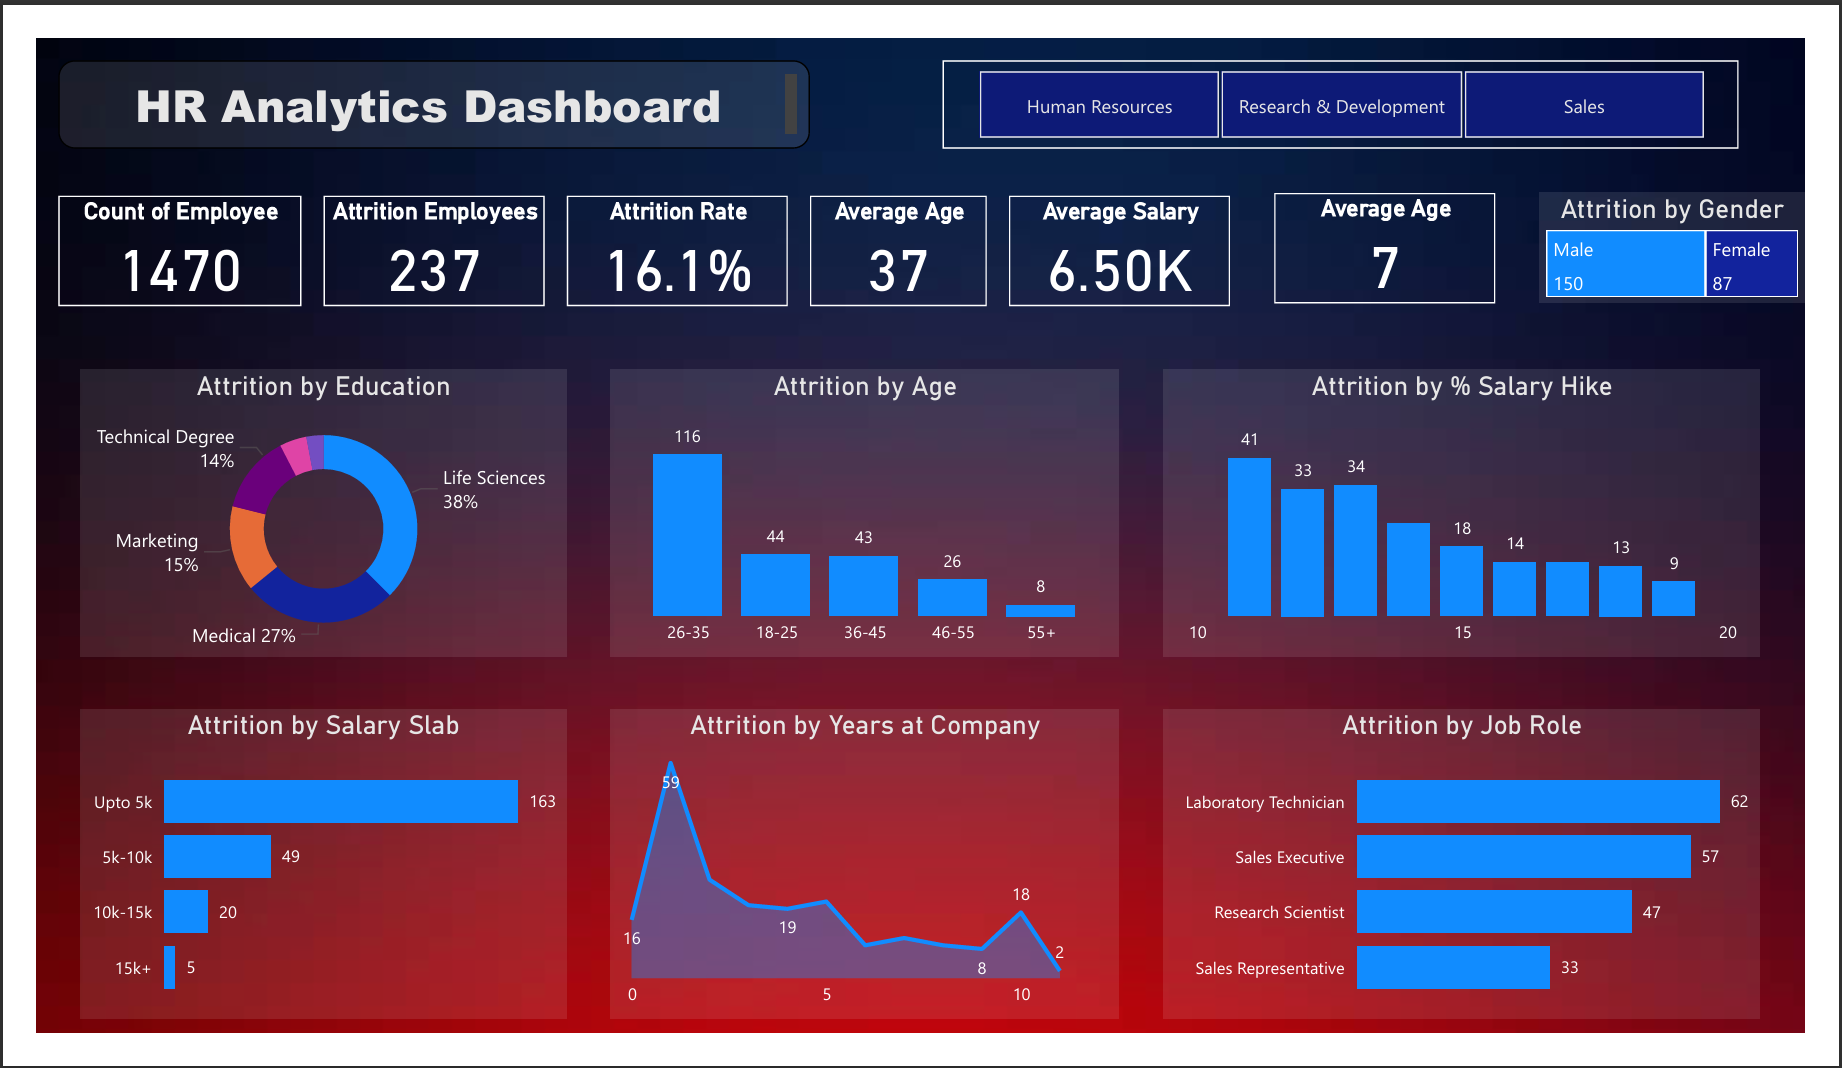

Layout of this report page (visuals, bound fields, positions):
{"tool":"powerbi","page":{"name":"Page 1","canvas":[1280,720],"ordinal":0},"visuals":[{"type":"card","title":"Attrition Employees","fields":{"Values":["Sum(HR_Analytics.Attrition Count)"]},"box":[208,114,160,80],"z":0},{"type":"card","title":"Count of Employee","fields":{"Values":["Count(HR_Analytics.EmpID)"]},"box":[16,114,176,80],"z":1000},{"type":"card","title":"Average Salary","fields":{"Values":["Avg(HR_Analytics.MonthlyIncome)"]},"box":[704,114,160,80],"z":2000},{"type":"card","title":"Attrition Rate","fields":{"Values":["HR_Analytics.Attrition Rate"]},"box":[384,114,160,80],"z":3000},{"type":"card","title":"Average Age","fields":{"Values":["Avg(HR_Analytics.Age)"]},"box":[560,114,128,80],"z":4000},{"type":"donutChart","title":"Attrition by Education","fields":{"Y":["Sum(HR_Analytics.Attrition Count)"],"Category":["HR_Analytics.EducationField"]},"box":[32,240,352,208],"z":5000},{"type":"columnChart","title":"Attrition by Age","fields":{"Category":["HR_Analytics.AgeGroup"],"Y":["Sum(HR_Analytics.Attrition Count)"]},"box":[416,240,368,208],"z":6000},{"type":"clusteredBarChart","title":"Attrition by Salary Slab","fields":{"Category":["HR_Analytics.SalarySlab"],"Y":["Sum(HR_Analytics.Attrition Count)"]},"box":[32,485.6,352,224],"z":8000},{"type":"clusteredBarChart","title":"Attrition by Job Role","fields":{"Y":["Sum(HR_Analytics.Attrition Count)"],"Category":["HR_Analytics.JobRole"]},"box":[816,485.6,432,224],"z":9000},{"type":"areaChart","title":"Attrition by Years at Company","fields":{"Category":["HR_Analytics.YearsAtCompany"],"Y":["Sum(HR_Analytics.Attrition Count)"]},"box":[416,485.6,368,224],"z":10000},{"type":"treemap","title":"Attrition by Gender","fields":{"Group":["HR_Analytics.Gender"],"Values":["Sum(HR_Analytics.Attrition Count)"]},"box":[1088,112,192,80],"z":11000},{"type":"slicer","title":"Department","fields":{"Values":["HR_Analytics.Department"]},"box":[656,16,576,64],"z":12000},{"type":"textbox","box":[16,16,544,64],"z":13000},{"type":"card","title":"Average Age","fields":{"Values":["Avg(HR_Analytics.YearsAtCompany)"]},"box":[896,112,160,80],"z":14000},{"type":"columnChart","title":"Attrition by % Salary Hike","fields":{"Category":["HR_Analytics.PercentSalaryHike"],"Y":["Sum(HR_Analytics.Attrition Count)"]},"box":[816,240,432,208],"z":14001}]}

Visuals, with their boxes in screenshot pixels (x1, y1, x2, y2), scaled from the page's 1280x720 canvas onto the 1842x1068 screenshot:
"Attrition Employees" card: BBox(299, 169, 530, 288)
"Count of Employee" card: BBox(23, 169, 276, 288)
"Average Salary" card: BBox(1013, 169, 1243, 288)
"Attrition Rate" card: BBox(553, 169, 783, 288)
"Average Age" card: BBox(806, 169, 990, 288)
"Attrition by Education" donutChart: BBox(46, 356, 553, 665)
"Attrition by Age" columnChart: BBox(599, 356, 1128, 665)
"Attrition by Salary Slab" clusteredBarChart: BBox(46, 720, 553, 1053)
"Attrition by Job Role" clusteredBarChart: BBox(1174, 720, 1796, 1053)
"Attrition by Years at Company" areaChart: BBox(599, 720, 1128, 1053)
"Attrition by Gender" treemap: BBox(1566, 166, 1841, 285)
"Department" slicer: BBox(944, 24, 1773, 119)
textbox: BBox(23, 24, 806, 119)
"Average Age" card: BBox(1289, 166, 1520, 285)
"Attrition by % Salary Hike" columnChart: BBox(1174, 356, 1796, 665)
